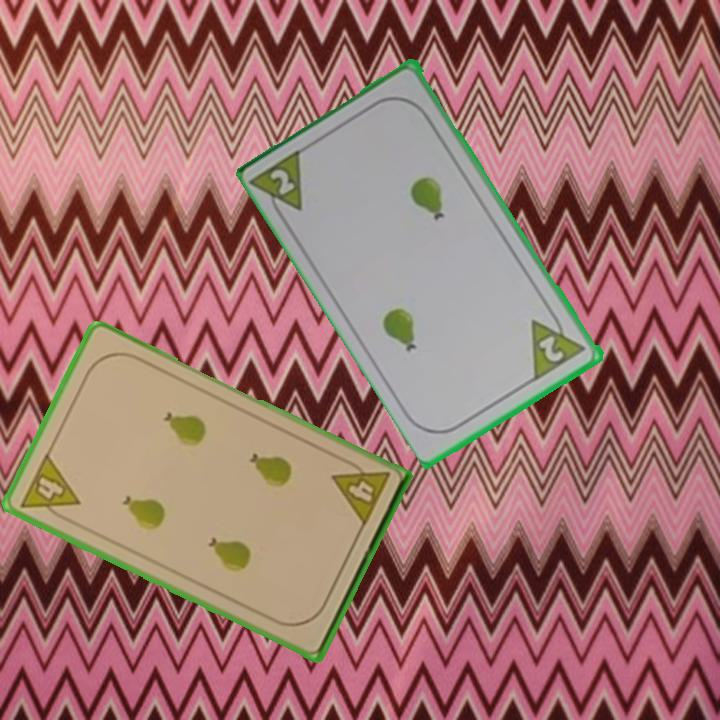2p: (527, 305, 590, 383), (249, 144, 308, 226)
4p: (16, 449, 83, 527), (328, 454, 393, 530)
